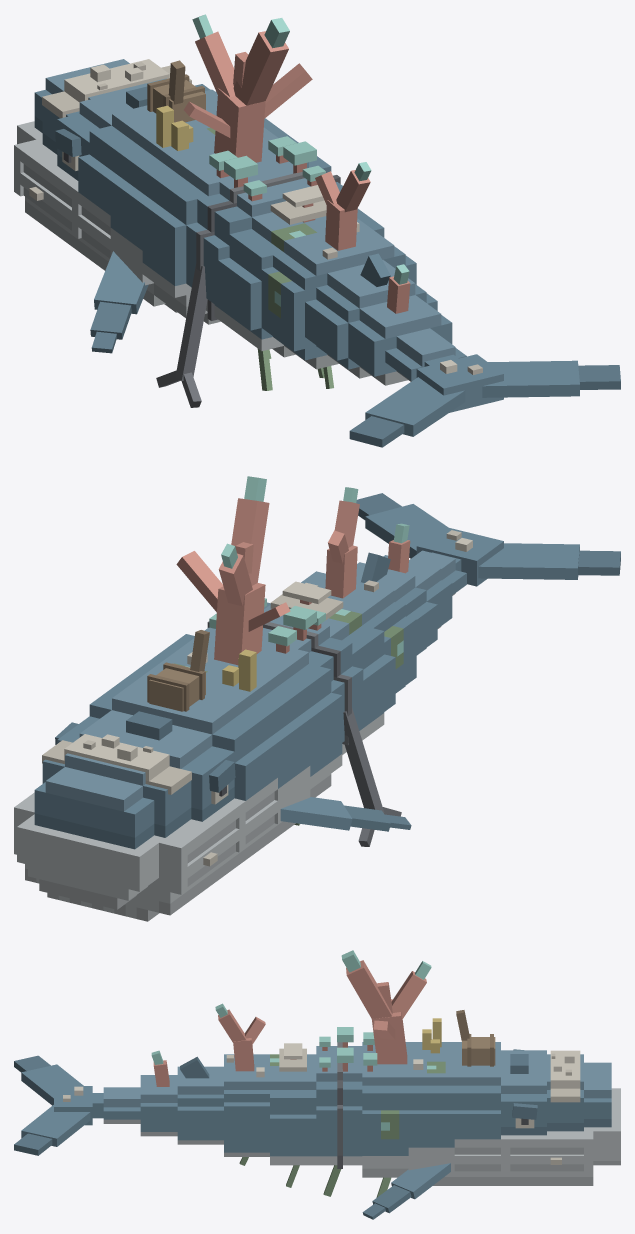
The model's file is BlueWhale.glb.
The picture shows the model from 3 angles, top to bottom: view 1: azimuth 30°, elevation 25°; view 2: azimuth 150°, elevation 25°; view 3: azimuth 270°, elevation 25°; orthographic projection. The views are drawn at different scales.
Parts seen in each view (by area): view 1: S3, Tail, S6, S4, S1, S5, Head, S2, S7, Jaw, S8, FlipL (+3 smaller); view 2: Head, Jaw, S3, S1, Tail, S2, S6, S4, S5, S7, FlipL, S8 (+3 smaller); view 3: S3, Head, S1, S2, Jaw, S6, S5, S4, Tail, S7, S8, FlipR (+3 smaller).
Boxes of the visible parts, left/top/right/bottom form: S3: left=142, top=31, right=331, bottom=358; Tail: left=349, top=354, right=620, bottom=447; S6: left=261, top=170, right=416, bottom=388; S4: left=156, top=163, right=342, bottom=407; S1: left=78, top=60, right=266, bottom=270; S5: left=218, top=185, right=384, bottom=377; Head: left=34, top=59, right=216, bottom=180; S2: left=110, top=105, right=298, bottom=312; S7: left=305, top=253, right=437, bottom=378; Jaw: left=14, top=121, right=89, bottom=259; S8: left=348, top=276, right=452, bottom=385; FlipL: left=90, top=251, right=148, bottom=353; Head: left=34, top=710, right=235, bottom=849; Jaw: left=14, top=792, right=245, bottom=921; S3: left=154, top=498, right=342, bottom=797; S1: left=89, top=630, right=277, bottom=867; Tail: left=356, top=493, right=620, bottom=586; S2: left=122, top=649, right=310, bottom=844; S6: left=301, top=500, right=416, bottom=693; S4: left=207, top=610, right=401, bottom=846; S5: left=264, top=581, right=395, bottom=740; S7: left=356, top=552, right=437, bottom=655; FlipL: left=280, top=797, right=411, bottom=831; S8: left=383, top=540, right=452, bottom=628; S3: left=346, top=960, right=426, bottom=1197; Head: left=501, top=1049, right=611, bottom=1135; S1: left=454, top=1010, right=500, bottom=1185; S2: left=408, top=1018, right=454, bottom=1185; Jaw: left=501, top=1088, right=620, bottom=1185; S6: left=218, top=1009, right=269, bottom=1165; S5: left=270, top=1043, right=316, bottom=1187; S4: left=316, top=1042, right=362, bottom=1196; Tail: left=14, top=1055, right=103, bottom=1155; S7: left=177, top=1056, right=223, bottom=1144; S8: left=140, top=1060, right=177, bottom=1136; FlipR: left=362, top=1163, right=450, bottom=1219.
Size of the model in its own units: 20.06 by 21.34 by 46.01.
